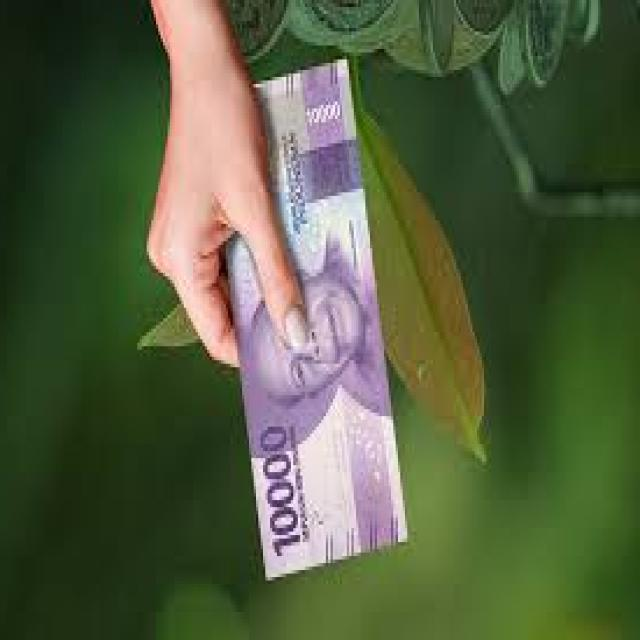sepuluh ribu rupiah: (225, 55, 407, 582)
